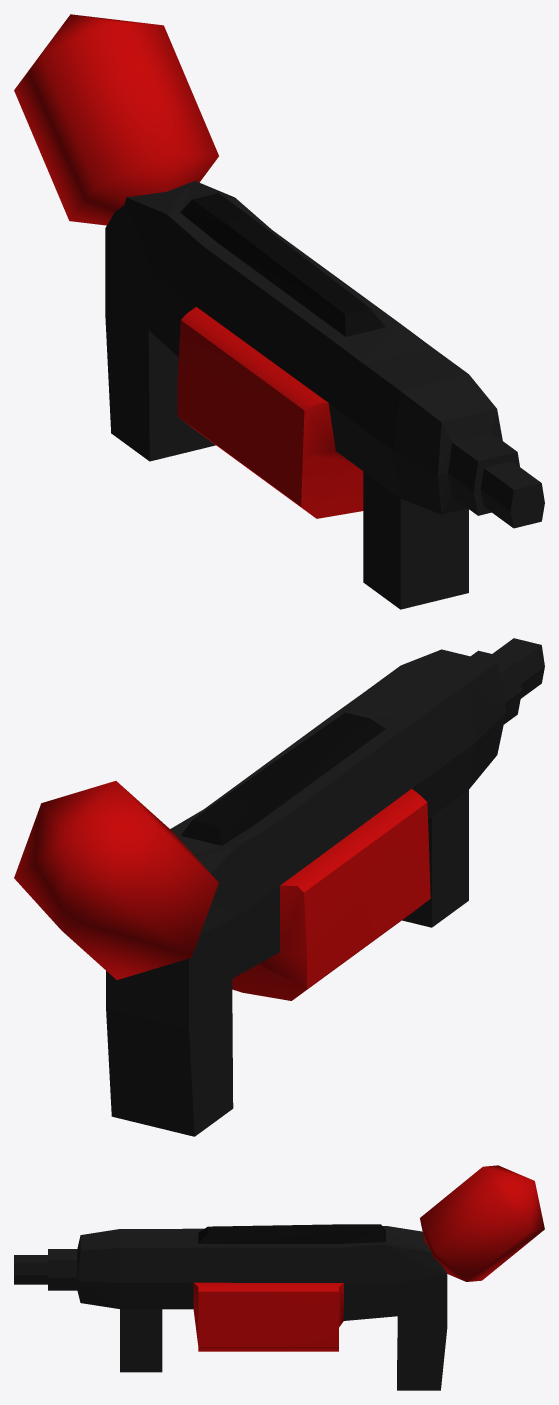
The model's file is BlueMachineGun.FBX.
3 renders of one model, top to bottom at view 1: azimuth 30°, elevation 25°; view 2: azimuth 150°, elevation 25°; view 3: azimuth 270°, elevation 25°, orthographic. The views are drawn at different scales.
Parts seen in each view (by area): view 1: Weapon, Clip; view 2: Weapon, Clip; view 3: Weapon, Clip.
Part boxes in pixels (box(x1,y1,x2,y2)): Weapon: box(105, 181, 544, 609); Clip: box(14, 14, 218, 225); Weapon: box(106, 638, 544, 1136); Clip: box(14, 781, 218, 979); Weapon: box(14, 1224, 447, 1390); Clip: box(420, 1165, 544, 1281).
Size of the model in its own units: 17.62 by 48.64 by 110.
